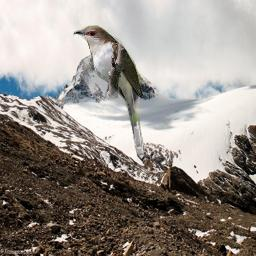Cuckoo: (72, 25, 145, 160)
